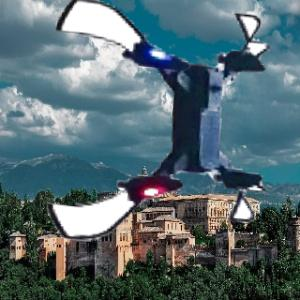drone: (32, 2, 281, 251)
